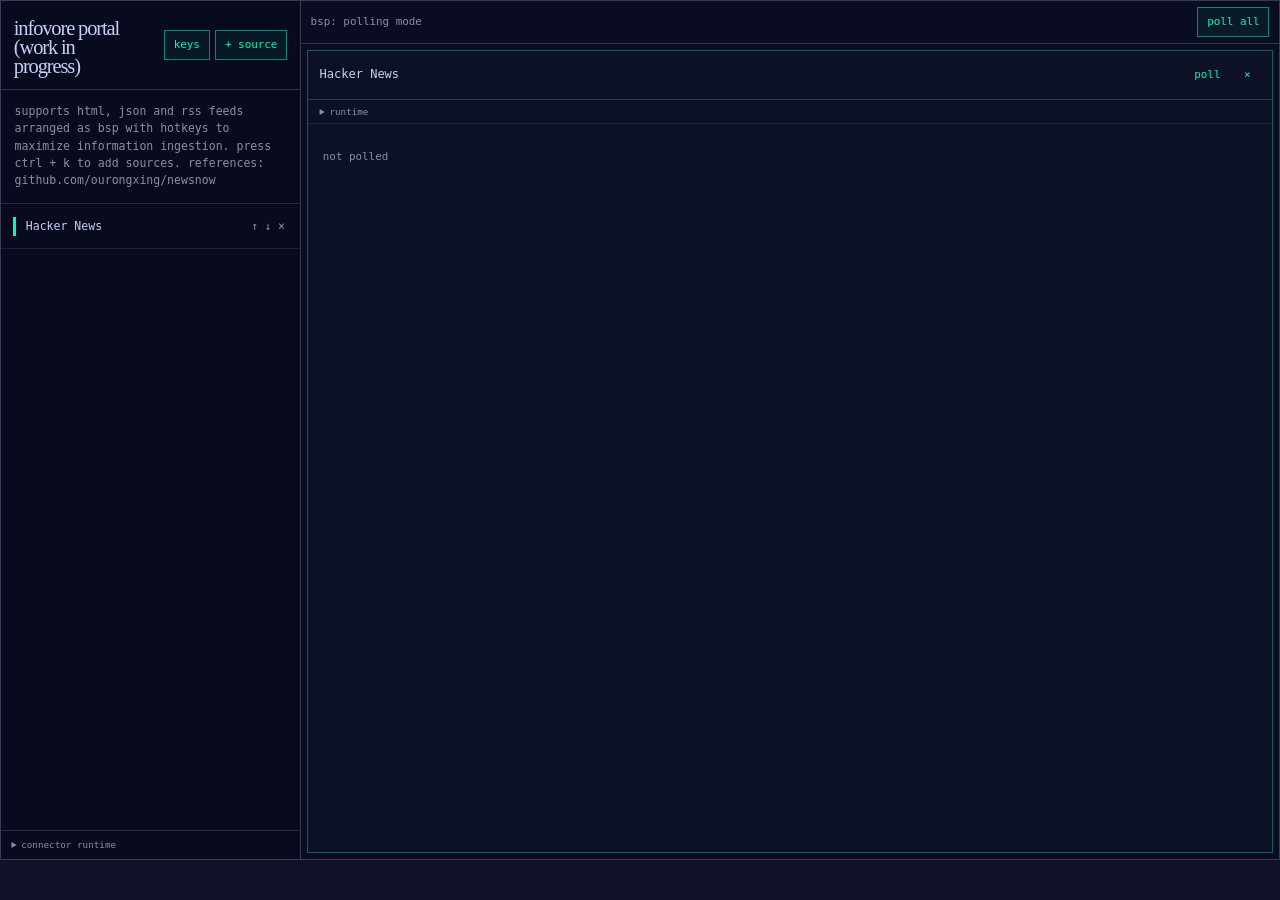
Test: SourcesTab manual runtime flow › renders an idle source and polls only after an explicit action
The width and height of the screenshot is (1280, 900).
Expected: the text "not polled" is shown, [323,150,388,163]
Click the button titled "Poll source".
click(1207, 75)  # box [1184,60,1230,90]
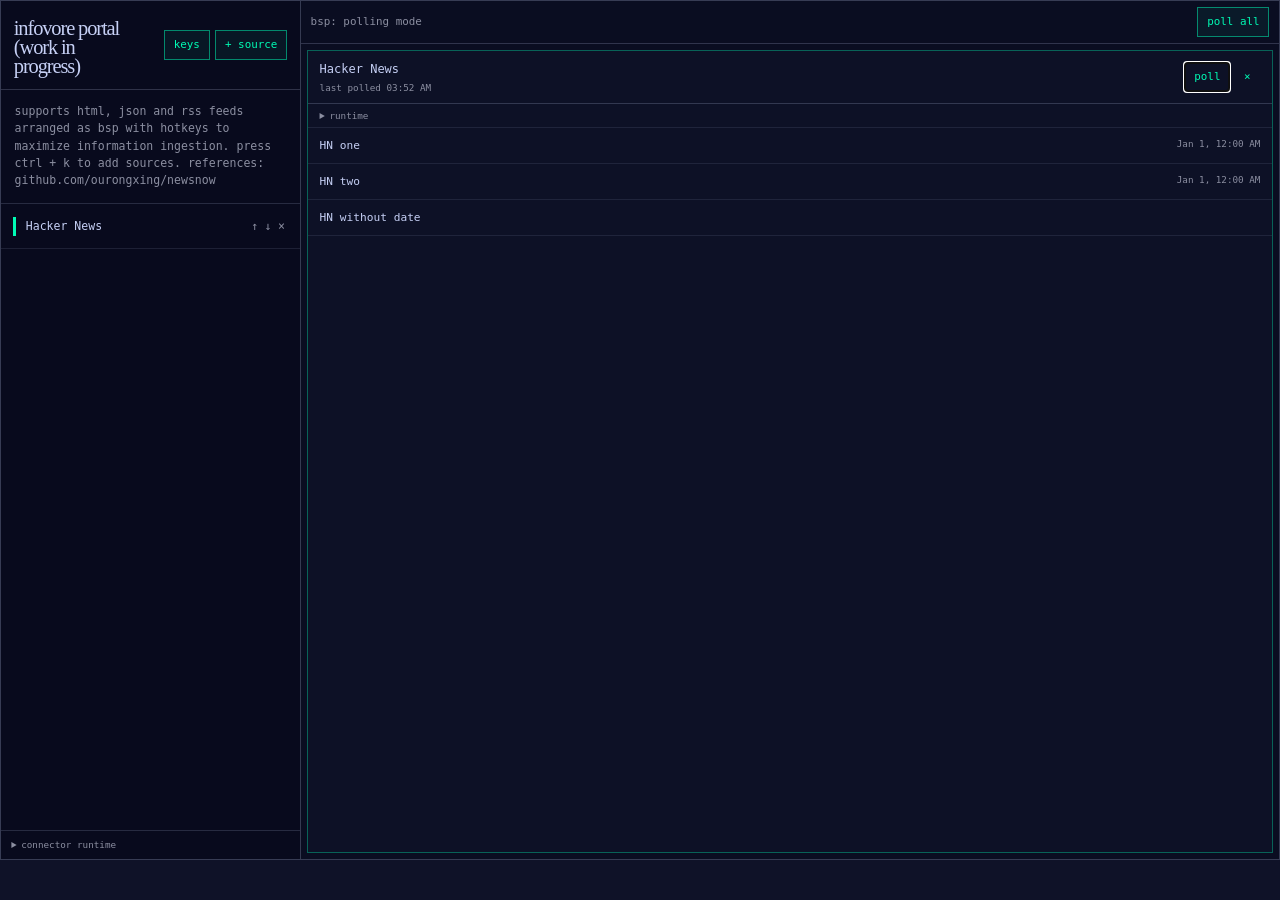
Now the link "HN one Jan 1, 12:00 AM" is shown, box [308,128,1272,164]
Now the text "last polled 03:52 AM" is shown, box [320,81,431,95]
